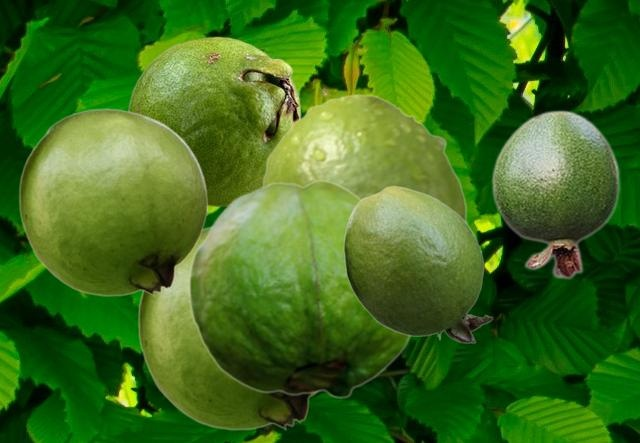guava: (188, 179, 411, 398), (137, 224, 316, 430), (18, 108, 207, 296), (127, 36, 300, 206), (262, 93, 466, 220), (343, 185, 492, 342), (491, 109, 620, 279)
